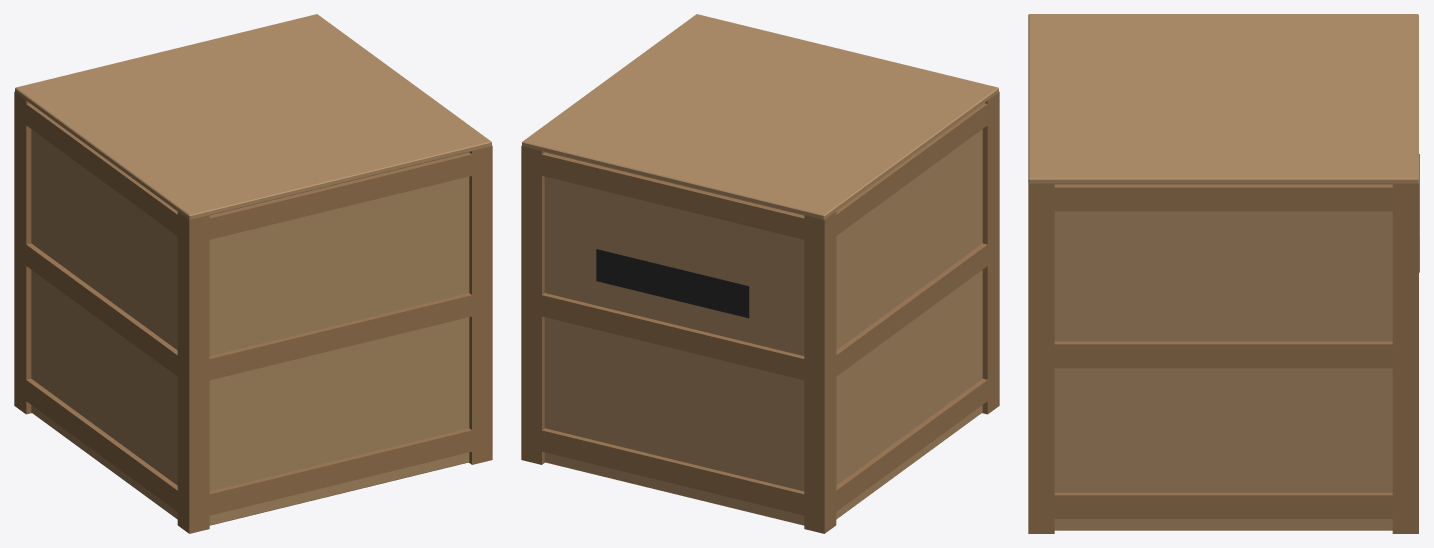
File: prop_shipping_crate_h120.glb
3 renders of one model, left to right at view 1: azimuth 30°, elevation 25°; view 2: azimuth 150°, elevation 25°; view 3: azimuth 270°, elevation 25°, orthographic. The views are drawn at different scales.
Visible parts, largest first — view 1: Crate; view 2: Crate; view 3: Crate.
Boxes of the visible parts, <box> form: Crate: <box>14,14,492,533</box>; Crate: <box>521,14,999,533</box>; Crate: <box>1028,14,1419,533</box>.
Size of what is drawn, in the model's own units: 1.19 by 1.19 by 1.19.
